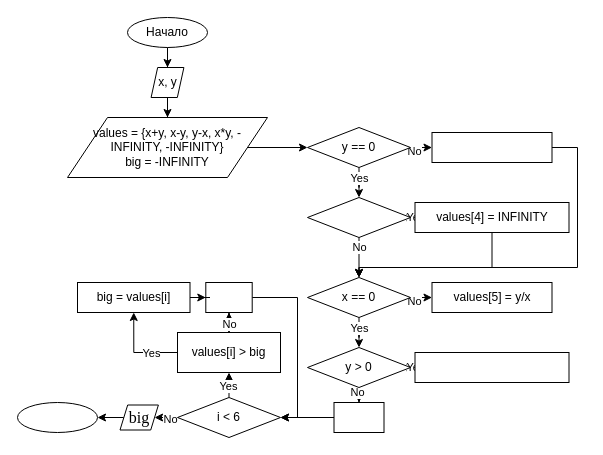
The diagram is 603 pixels wide and 455 high, and some of its shapes have lost their labels. Here are the shapes that lost their labels. From the top down, the centre of each, then its label:
the point at 491,147: values[4] = x/y
the point at 358,217: x > 0
the point at 228,297: i++
the point at 491,367: values[5] = INFINITY
the point at 57,417: Конец
the point at 358,417: i = 0
